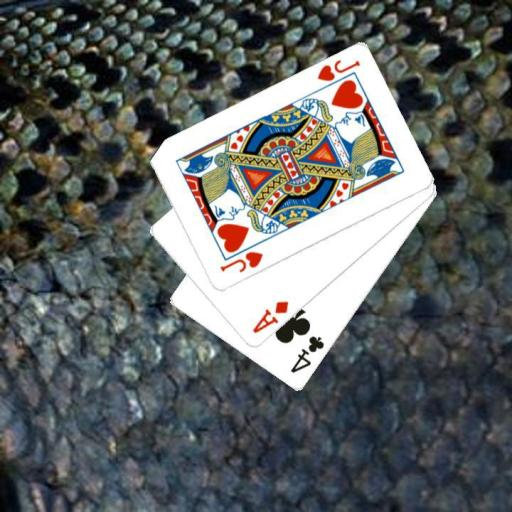4C: (287, 333, 326, 375)
AD: (249, 298, 290, 336)
JH: (217, 248, 264, 275), (314, 57, 361, 83)
